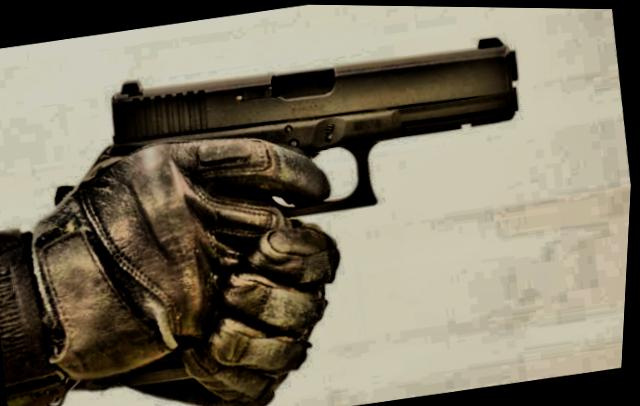pistol: (93, 13, 539, 244)
